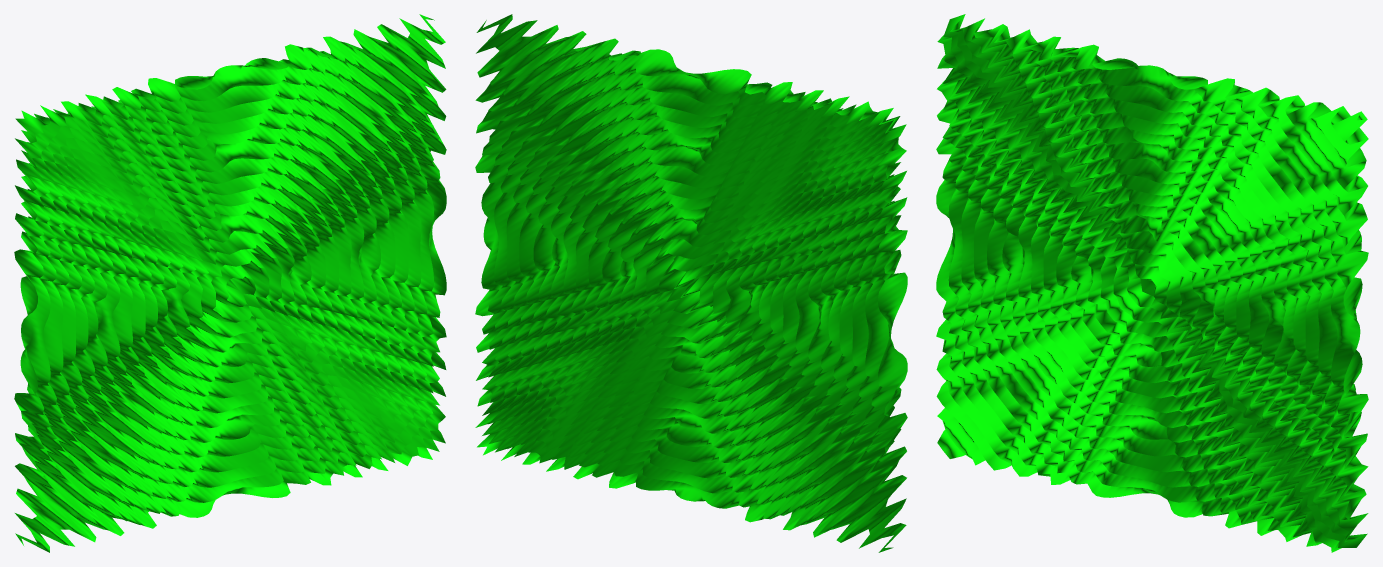
File: acoustic-pressure-001-solid (1).gltf
3 renders of one model, left to right at view 1: azimuth 30°, elevation 25°; view 2: azimuth 150°, elevation 25°; view 3: azimuth 330°, elevation 25°, orthographic.
Visible parts, largest first — view 1: acoustic_pressure_001_solid; view 2: acoustic_pressure_001_solid; view 3: acoustic_pressure_001_solid.
Boxes of the visible parts, left/top/right/bottom form: acoustic_pressure_001_solid: left=14, top=14, right=446, bottom=552; acoustic_pressure_001_solid: left=475, top=14, right=907, bottom=552; acoustic_pressure_001_solid: left=936, top=14, right=1368, bottom=552.
Size of the model in its own units: 9.93 by 9.91 by 1.02.
